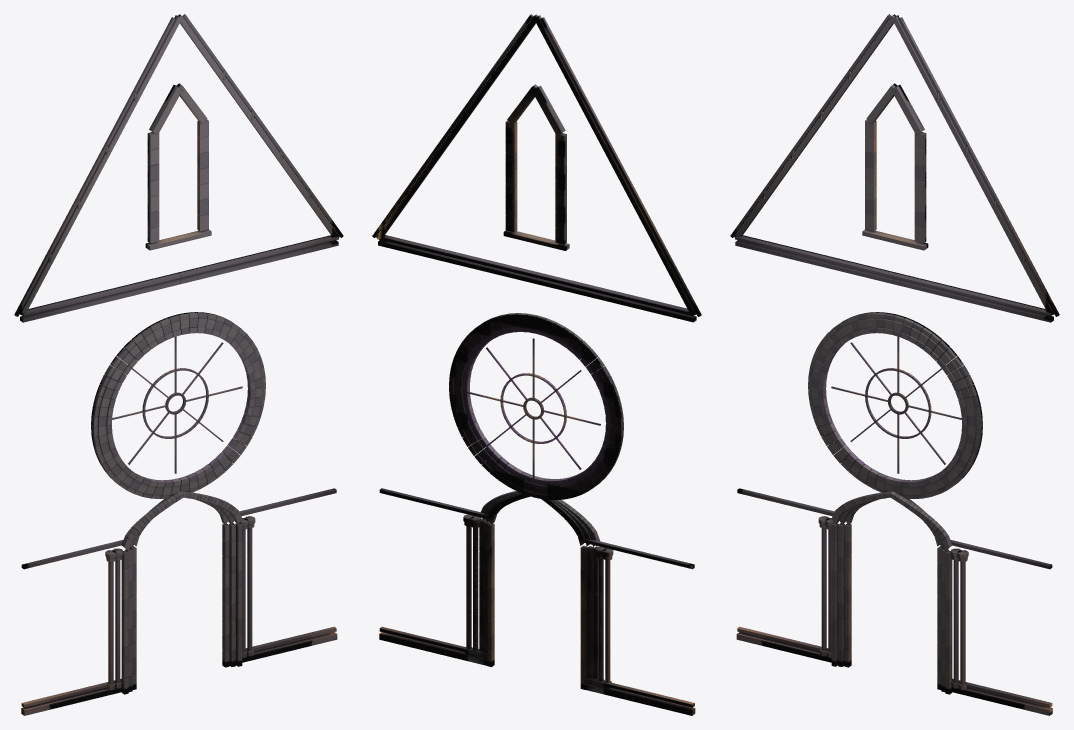
The model's file is entrance_carved_trim.glb.
The picture shows the model from 3 angles, left to right: view 1: azimuth 30°, elevation 25°; view 2: azimuth 150°, elevation 25°; view 3: azimuth 330°, elevation 25°; orthographic projection.
Parts seen in each view (by area): view 1: entrance_carved_trim.001; view 2: entrance_carved_trim.001; view 3: entrance_carved_trim.001.
Boxes of the visible parts, x1,y1,x2,y2 form: entrance_carved_trim.001: (14, 14, 343, 715); entrance_carved_trim.001: (372, 14, 701, 715); entrance_carved_trim.001: (730, 14, 1059, 715).
Bounding box in the file's own units: 14.56 × 28.05 × 0.64.
Materials: 1 (1 with a texture image).
